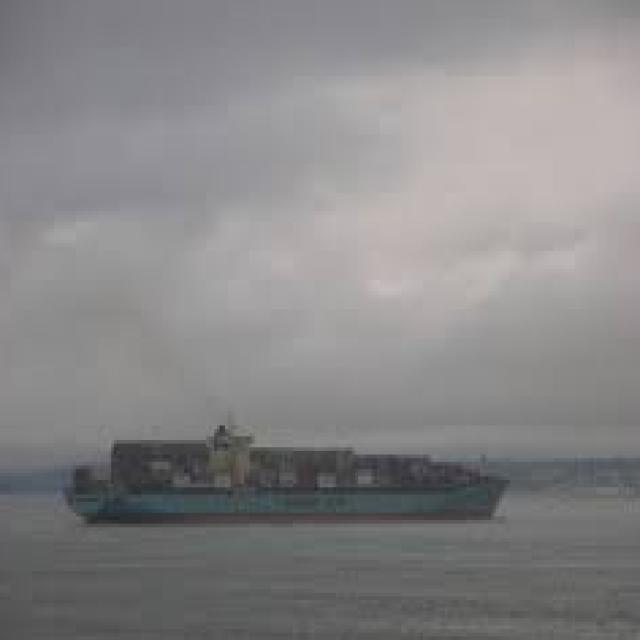cargoship: (65, 411, 503, 522)
